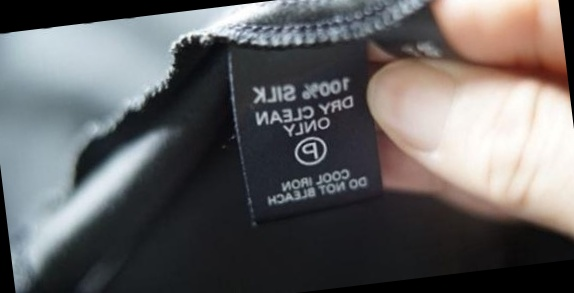dry_clean_any_solvent_except_trichloroethylene: (291, 133, 328, 167)
